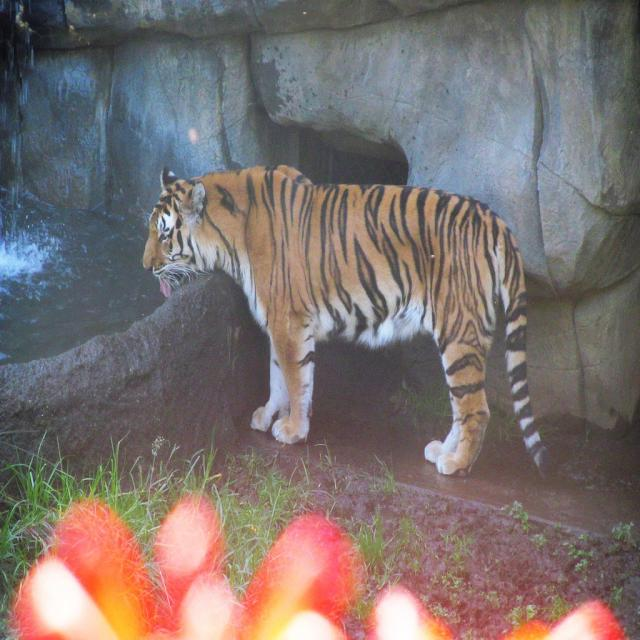Tiger: (143, 163, 558, 480)
